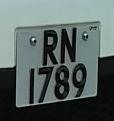1: (25, 65, 38, 106)
7: (34, 66, 54, 104)
8: (53, 65, 71, 102)
9: (70, 62, 89, 99)
N: (59, 24, 79, 65)
R: (40, 26, 61, 68)
